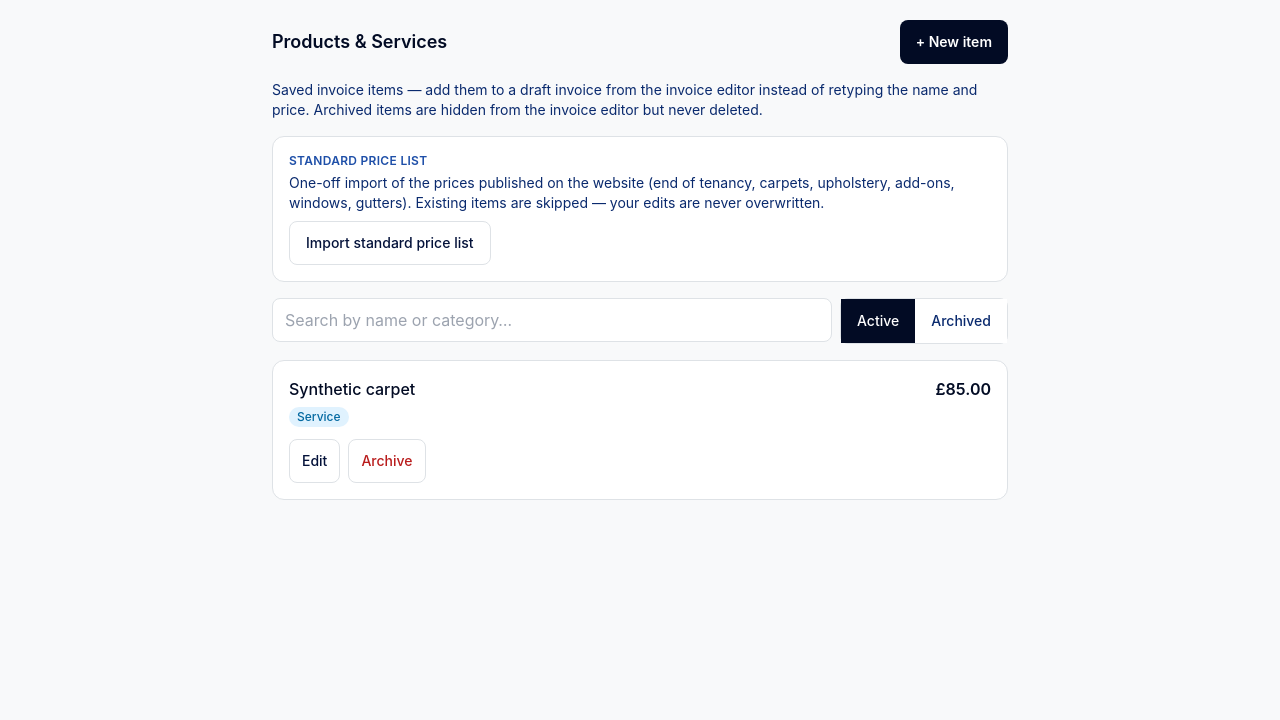
Test case: CatalogueListPage request recovery › returns focus to the actual edit button after Escape
Click the button "Edit".
click(315, 461)  # box x1=289 y1=439 x2=340 y2=483
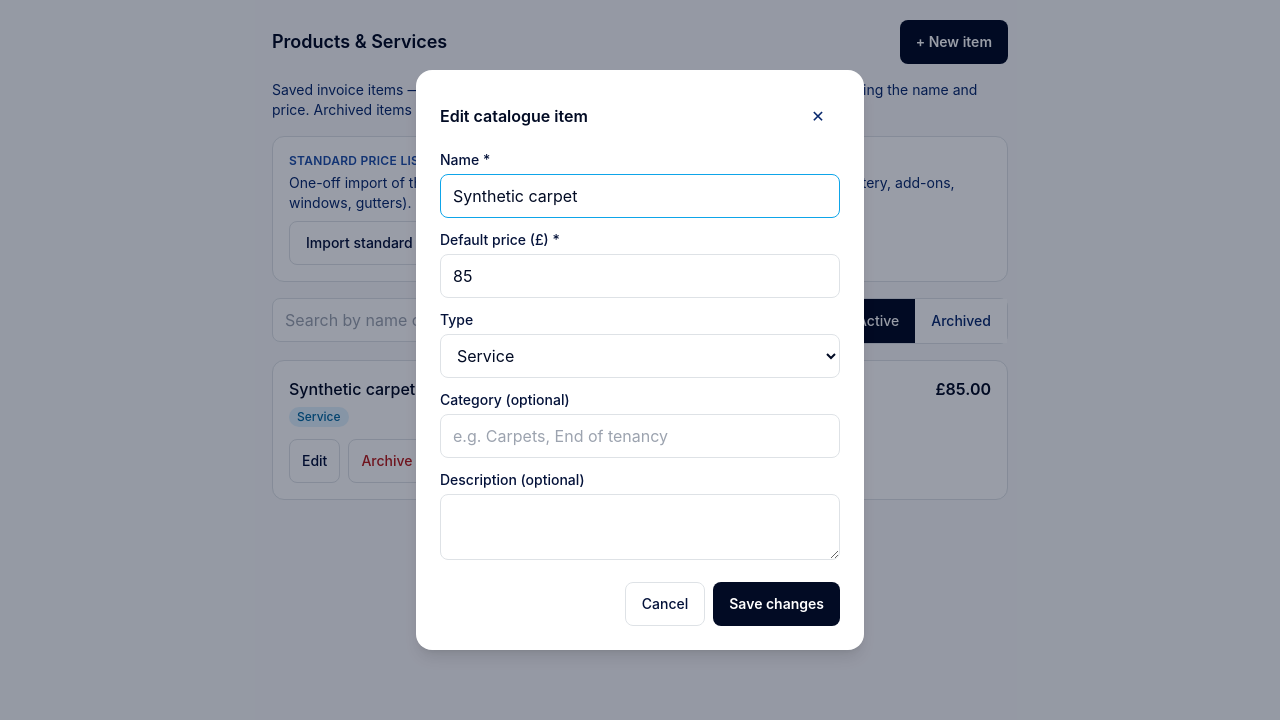
Press Escape
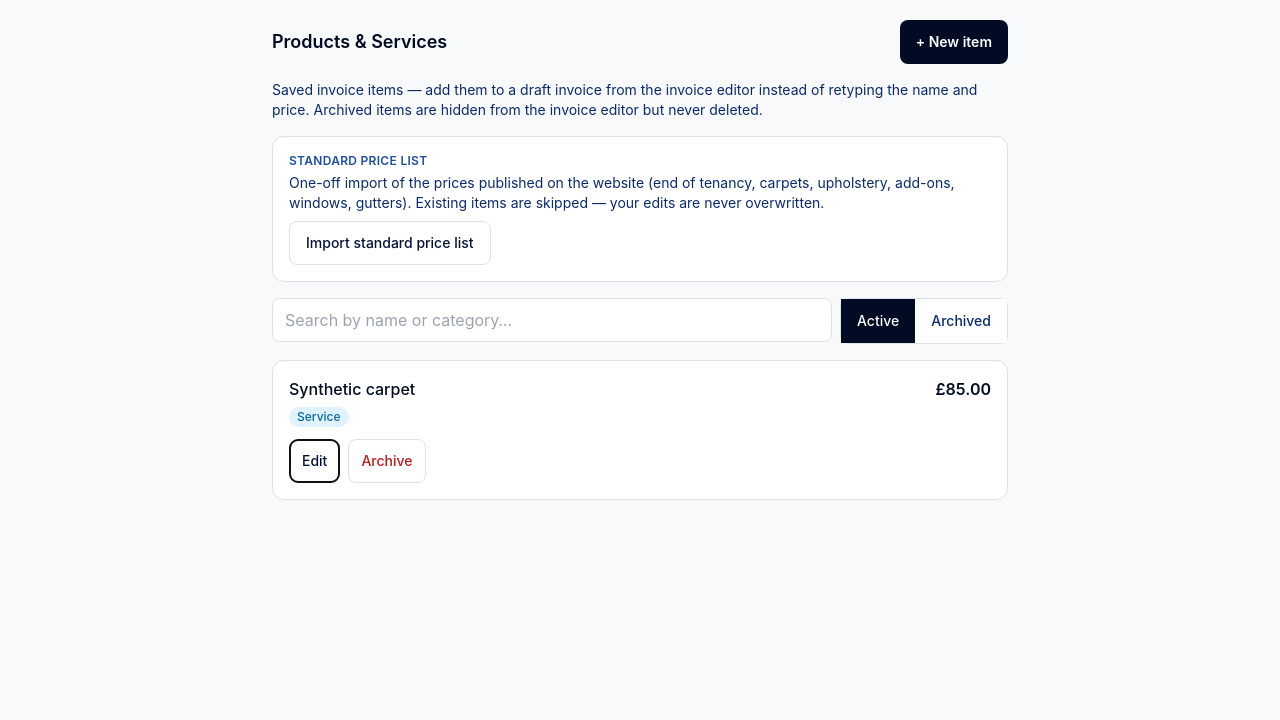
Check: the dialog is gone
